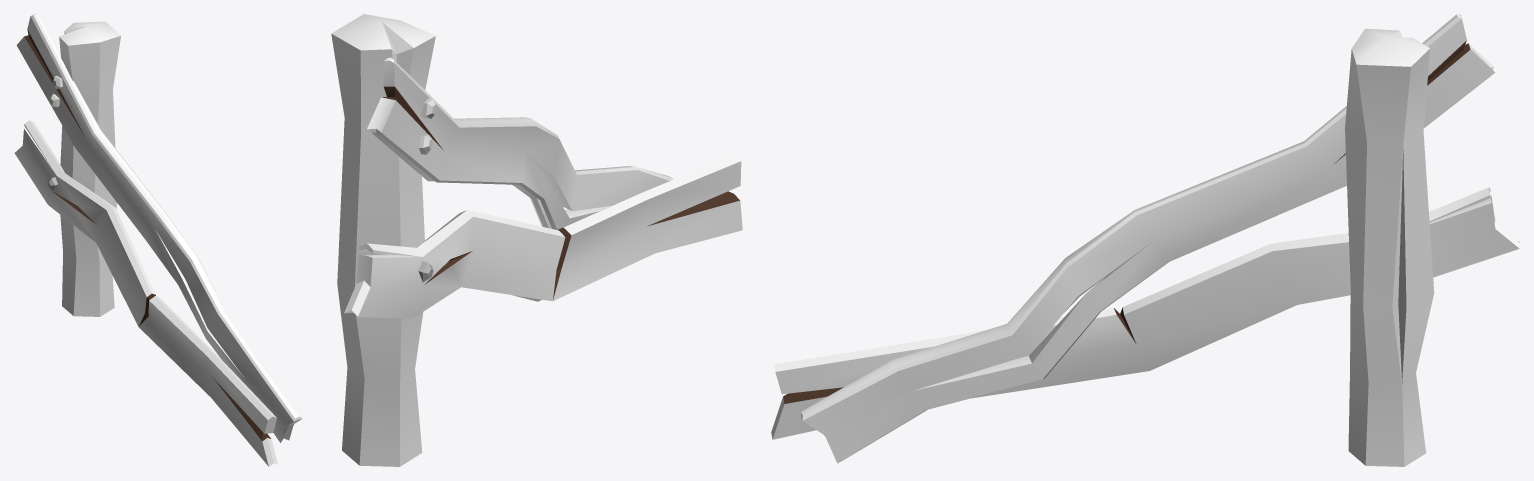
Rendered from valla5.fbx.
3 renders of one model, left to right at view 1: azimuth 30°, elevation 25°; view 2: azimuth 150°, elevation 25°; view 3: azimuth 270°, elevation 25°, orthographic. The views are drawn at different scales.
Parts seen in each view (by area): view 1: vallaRota2; view 2: vallaRota2; view 3: vallaRota2.
Boxes of the visible parts, x1=… form: vallaRota2: x1=14, y1=14, x2=302, y2=466; vallaRota2: x1=331, y1=14, x2=742, y2=466; vallaRota2: x1=771, y1=14, x2=1519, y2=466.
Size of the model in its own units: 141 by 615 by 999.
